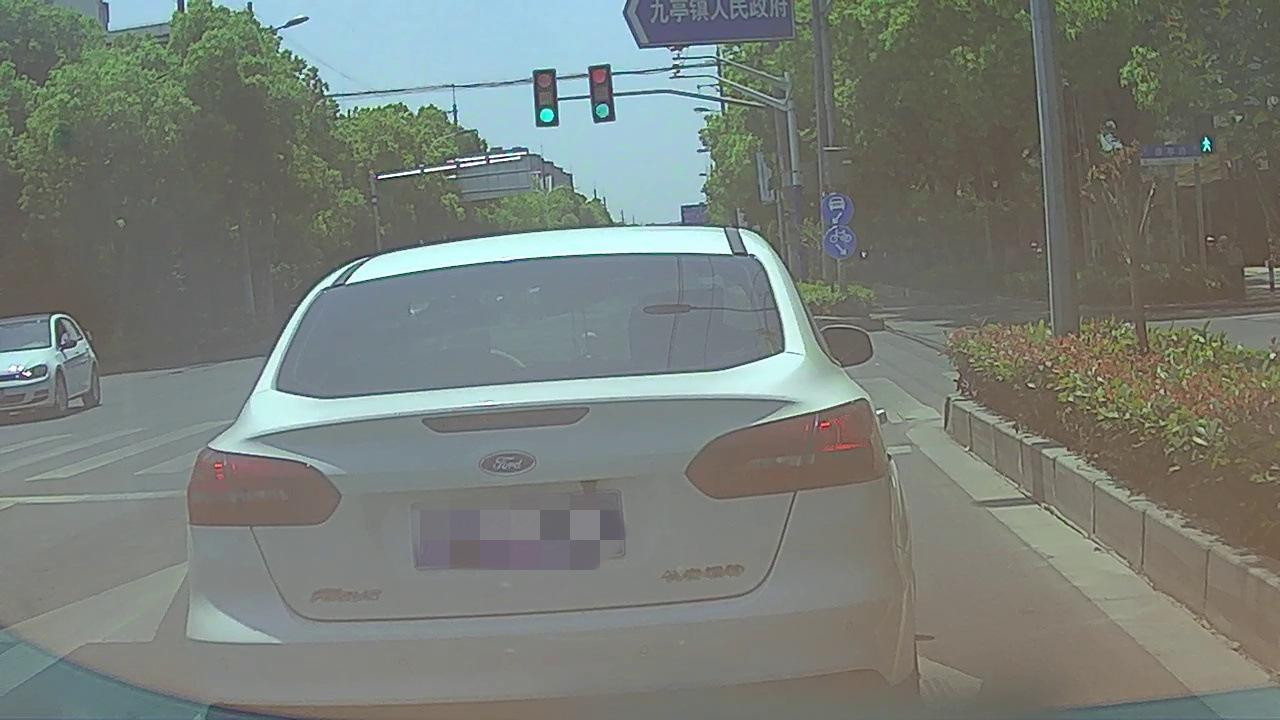traffic_light: (532, 70, 559, 126), (590, 68, 615, 124)
